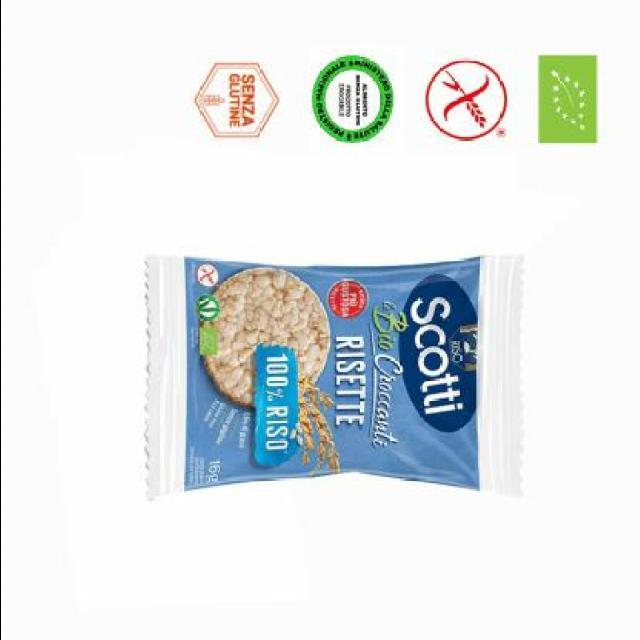Gallette di riso: (134, 246, 532, 504)
